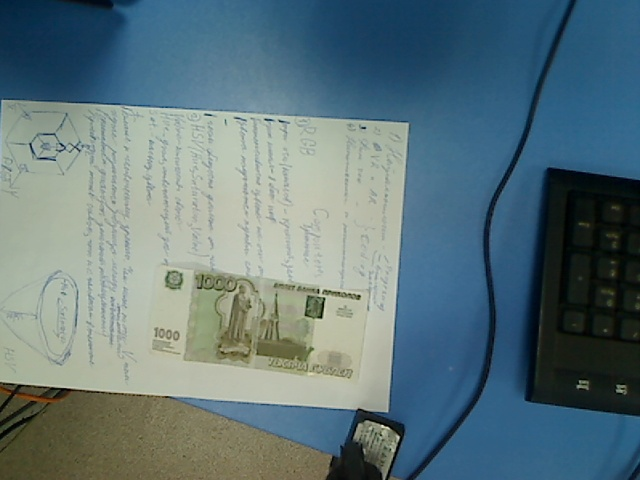banknotes: (144, 262, 371, 384)
